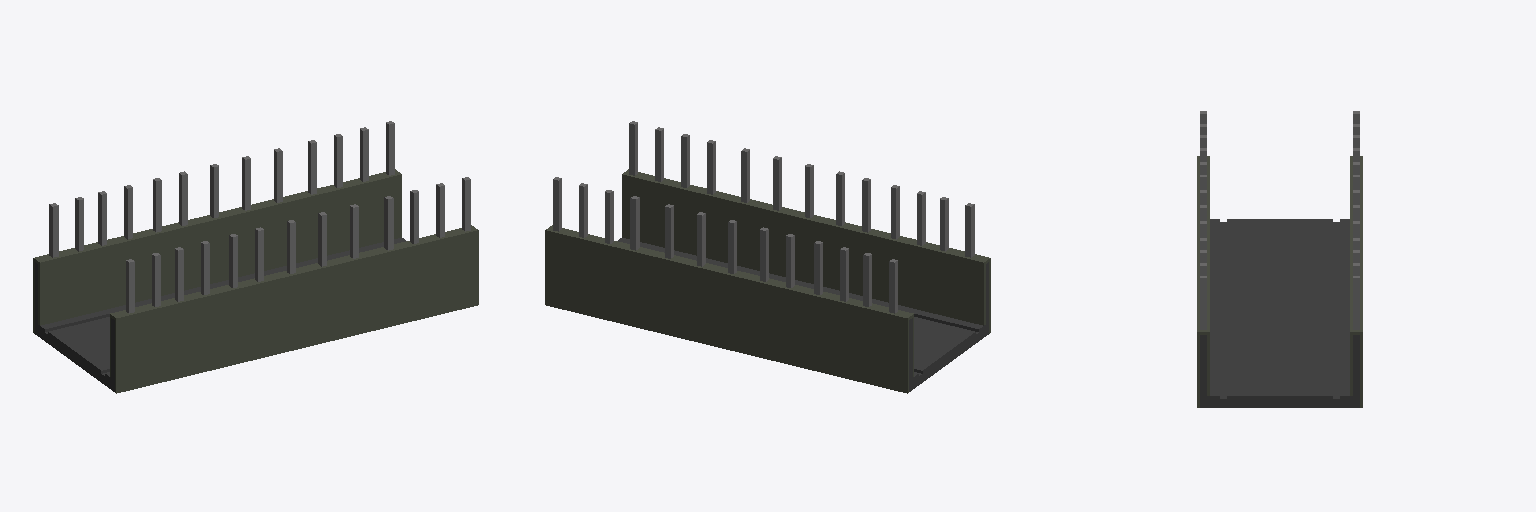
The picture shows the model from 3 angles: view 1: azimuth 30°, elevation 25°; view 2: azimuth 150°, elevation 25°; view 3: azimuth 270°, elevation 25°; orthographic projection.
Parts seen in each view (by area): view 1: object 1; view 2: object 1; view 3: object 1.
Part boxes in pixels (bbox=[...]): object 1: bbox=[33, 121, 478, 393]; object 1: bbox=[545, 121, 990, 393]; object 1: bbox=[1197, 111, 1362, 407].
Size of the model in its own units: 12.6 by 4.2 by 5.
Materials: 1 (1 with a texture image).